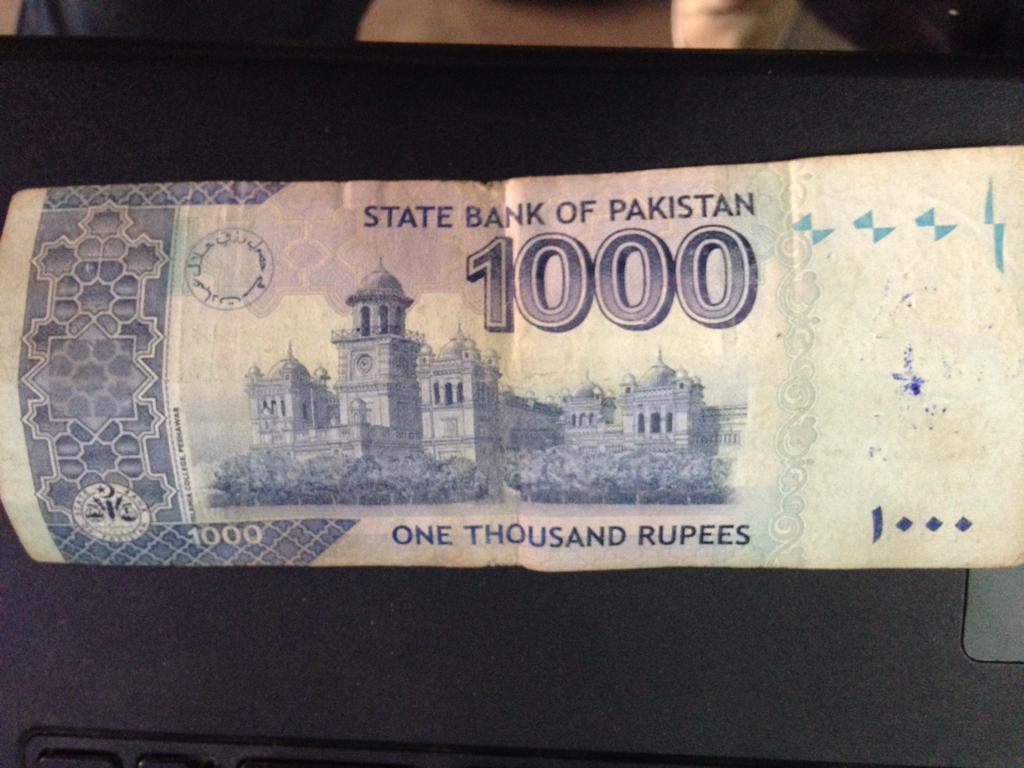1000 rupee: (7, 162, 1005, 611)
